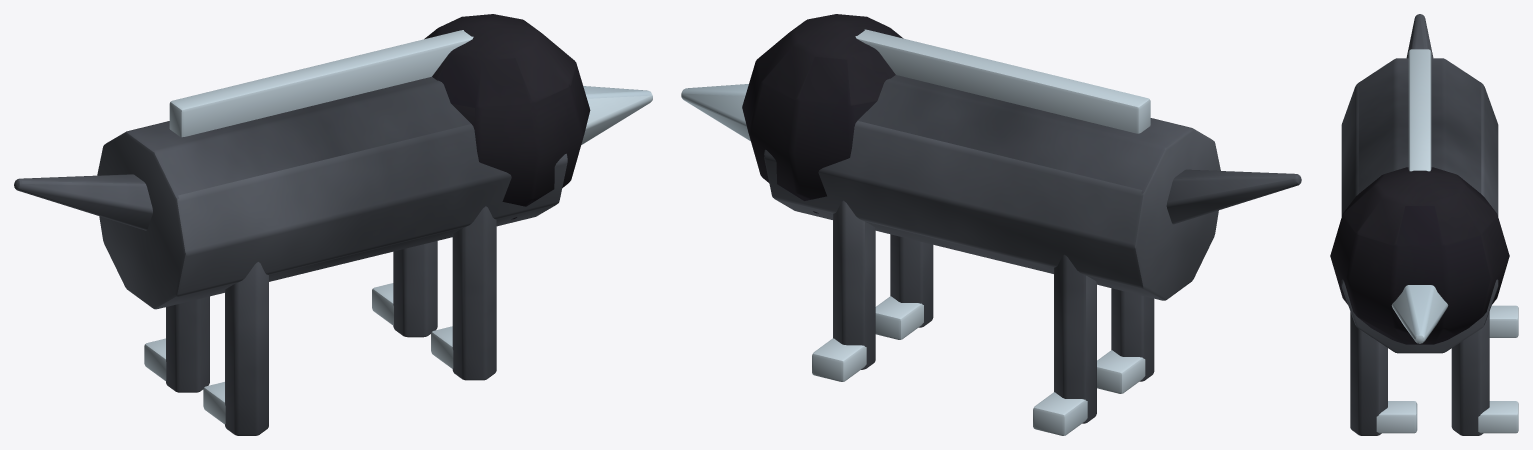
The model's file is unit_veiled_shadow.fbx.
3 views of the same model, side by side, from view 1: azimuth 30°, elevation 25°; view 2: azimuth 150°, elevation 25°; view 3: azimuth 270°, elevation 25° (orthographic). The views are drawn at different scales.
Visible parts, largest first — view 1: unit_veiled_shadow; view 2: unit_veiled_shadow; view 3: unit_veiled_shadow.
Part boxes in pixels (x1,y1,x2,y2): unit_veiled_shadow: (14, 14, 652, 435); unit_veiled_shadow: (681, 14, 1301, 435); unit_veiled_shadow: (1330, 14, 1518, 435).
Size of the model in its own units: 2.24 by 1.07 by 0.668.
